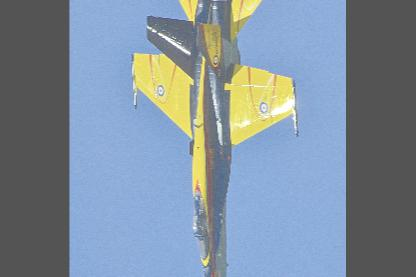F15: (131, 0, 299, 276)
